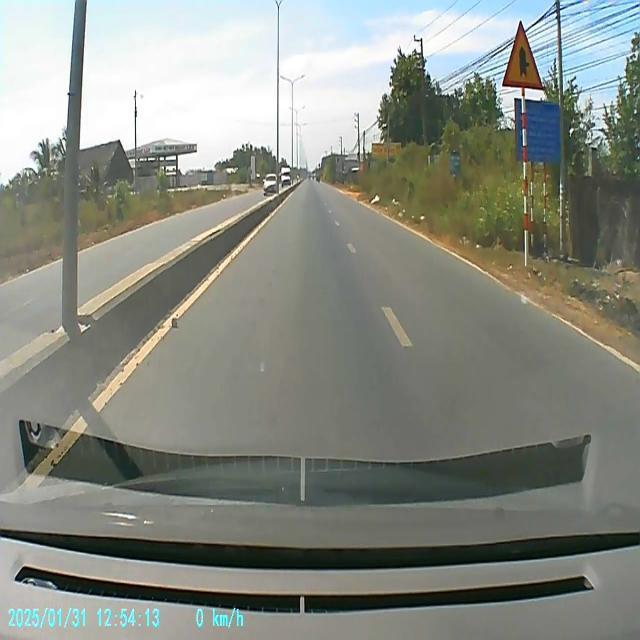207-giao-nhau-voi-duong-khong-uu-tien: (501, 23, 544, 88)
